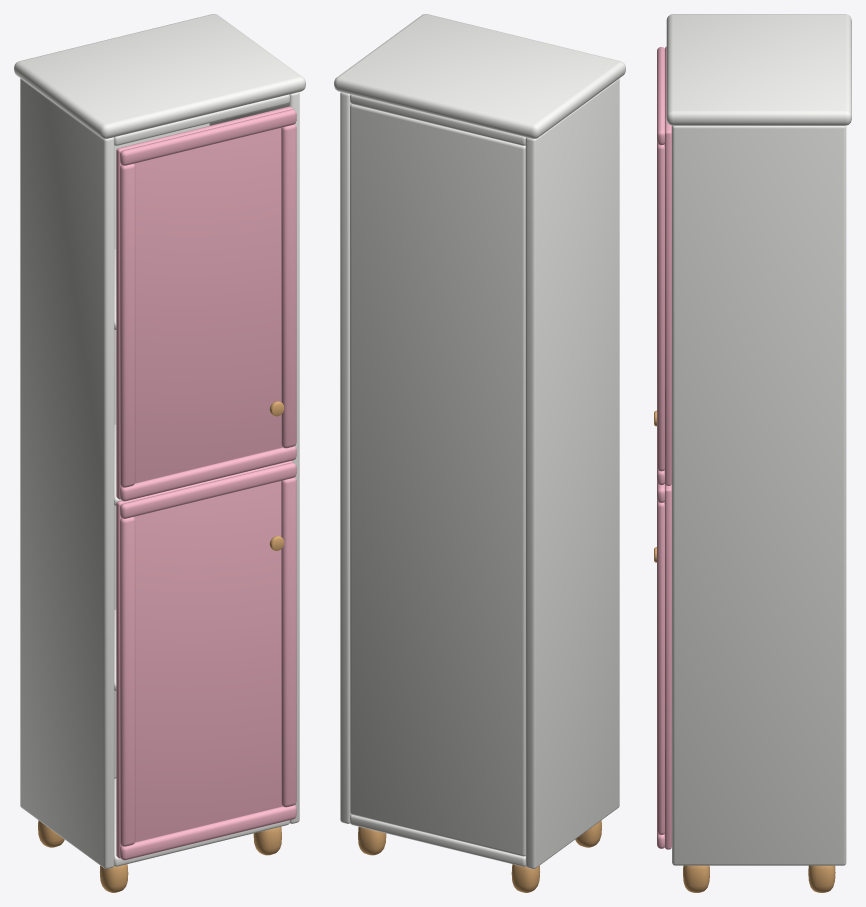
Rendered from armario_alto_portas_rosa.glb.
3 renders of one model, left to right at view 1: azimuth 30°, elevation 25°; view 2: azimuth 150°, elevation 25°; view 3: azimuth 270°, elevation 25°, orthographic.
Visible parts, largest first — view 1: armario_alto_portas_rosa, porta_1, porta_2; view 2: armario_alto_portas_rosa; view 3: armario_alto_portas_rosa, porta_2, porta_1.
Part boxes in pixels (x1=…): armario_alto_portas_rosa: x1=14, y1=14, x2=305, y2=892; porta_1: x1=116, y1=461, x2=296, y2=860; porta_2: x1=116, y1=106, x2=296, y2=501; armario_alto_portas_rosa: x1=334, y1=14, x2=625, y2=892; armario_alto_portas_rosa: x1=666, y1=14, x2=851, y2=892; porta_2: x1=654, y1=46, x2=671, y2=485; porta_1: x1=654, y1=482, x2=671, y2=849.
Size of the model in its own units: 0.44 by 1.6 by 0.3628.
Materials: 1 (1 with a texture image).
